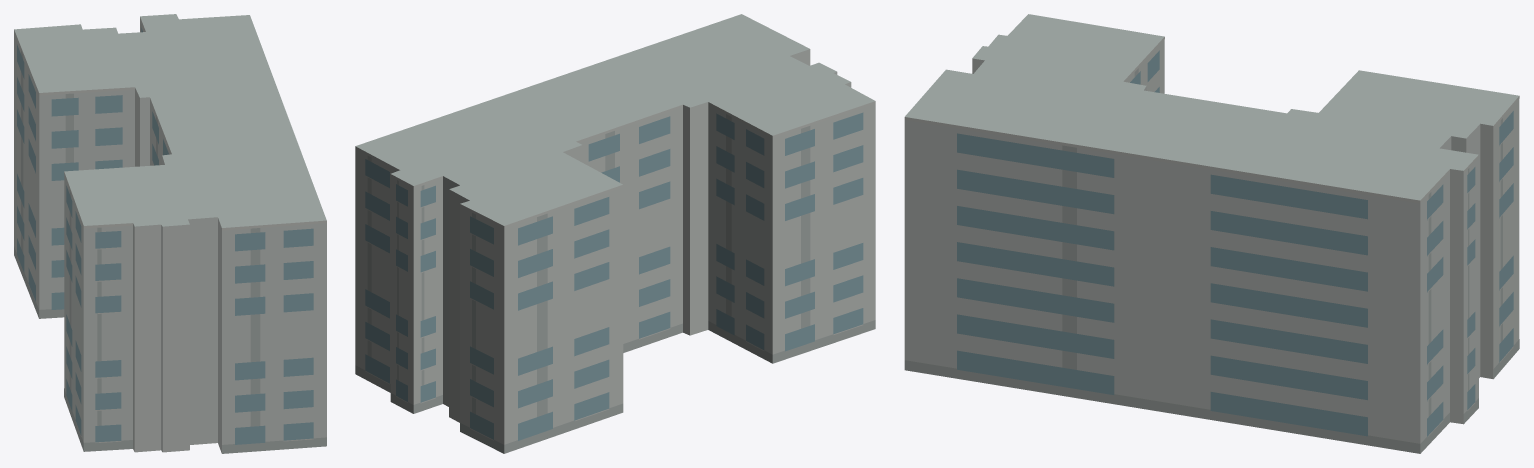
Rendered from survey-upis-32868472.glb.
The picture shows the model from 3 angles, left to right: view 1: azimuth 30°, elevation 25°; view 2: azimuth 150°, elevation 25°; view 3: azimuth 270°, elevation 25°; orthographic projection. The views are drawn at different scales.
Visible parts, largest first — view 1: survey-upis-32868472.tmp; view 2: survey-upis-32868472.tmp; view 3: survey-upis-32868472.tmp.
Boxes of the visible parts, x1,y1,x2,y2 form: survey-upis-32868472.tmp: [14, 14, 326, 453]; survey-upis-32868472.tmp: [355, 14, 875, 453]; survey-upis-32868472.tmp: [904, 14, 1519, 453].
Size of the model in its own units: 33.73 by 21.35 by 46.97.
